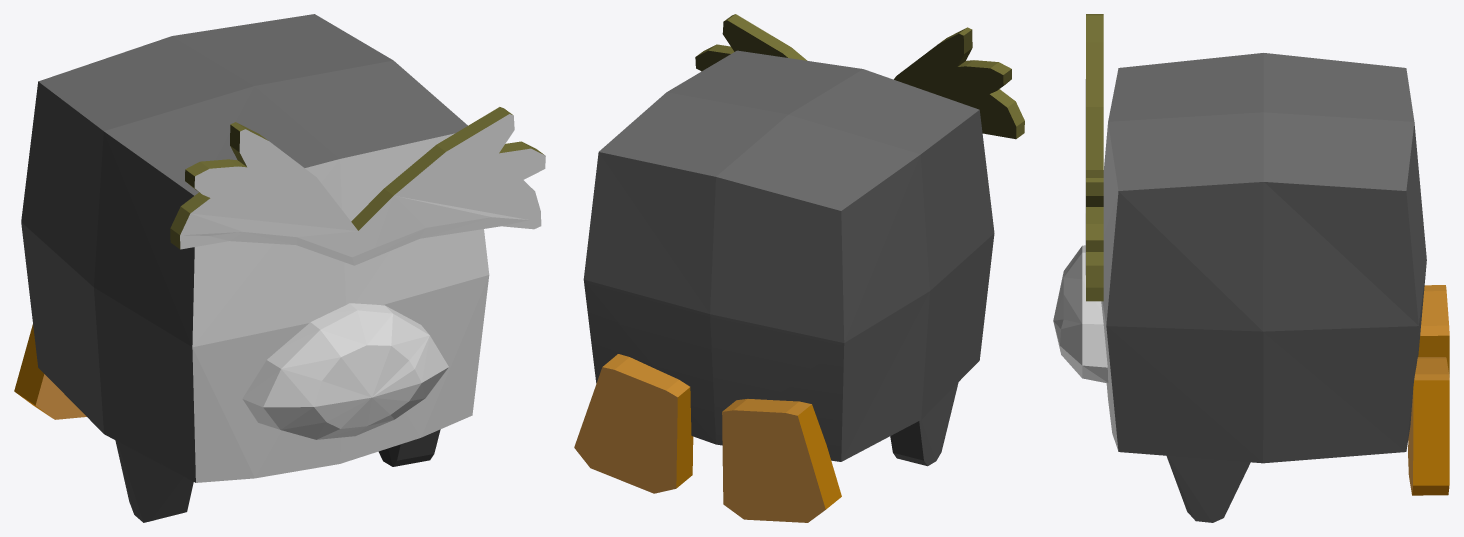
The model's file is rockHopperPenguinBaloon.glb.
3 renders of one model, left to right at view 1: azimuth 30°, elevation 25°; view 2: azimuth 150°, elevation 25°; view 3: azimuth 270°, elevation 25°, orthographic. The views are drawn at different scales.
Parts seen in each view (by area): view 1: rockHopperPenguinBaloon; view 2: rockHopperPenguinBaloon; view 3: rockHopperPenguinBaloon.
Boxes of the visible parts, <box> form: rockHopperPenguinBaloon: <box>14,14,545,522</box>; rockHopperPenguinBaloon: <box>574,14,1024,522</box>; rockHopperPenguinBaloon: <box>1053,14,1449,522</box>.
Bounding box in the file's own units: 0.8587 × 0.9783 × 0.8838.
